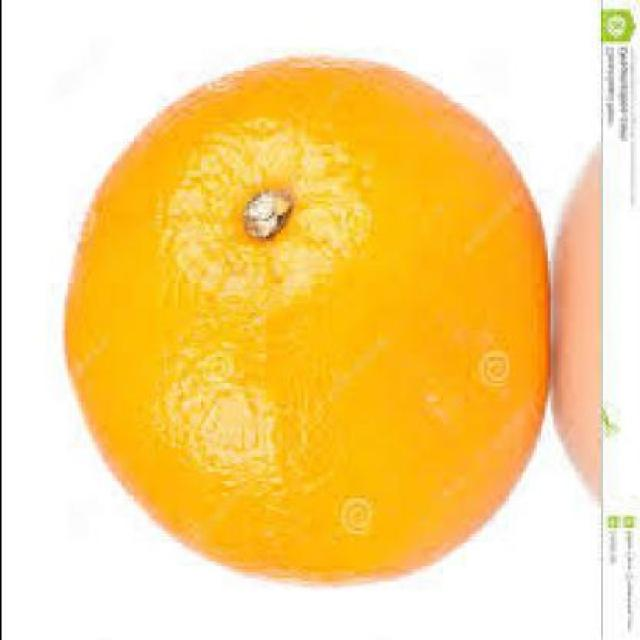BIODEGRADABLE: (66, 58, 549, 581)
